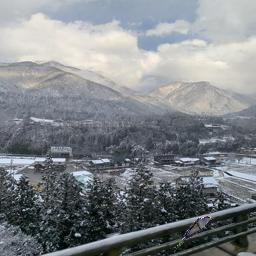Cuckoo: (177, 216, 214, 248)
